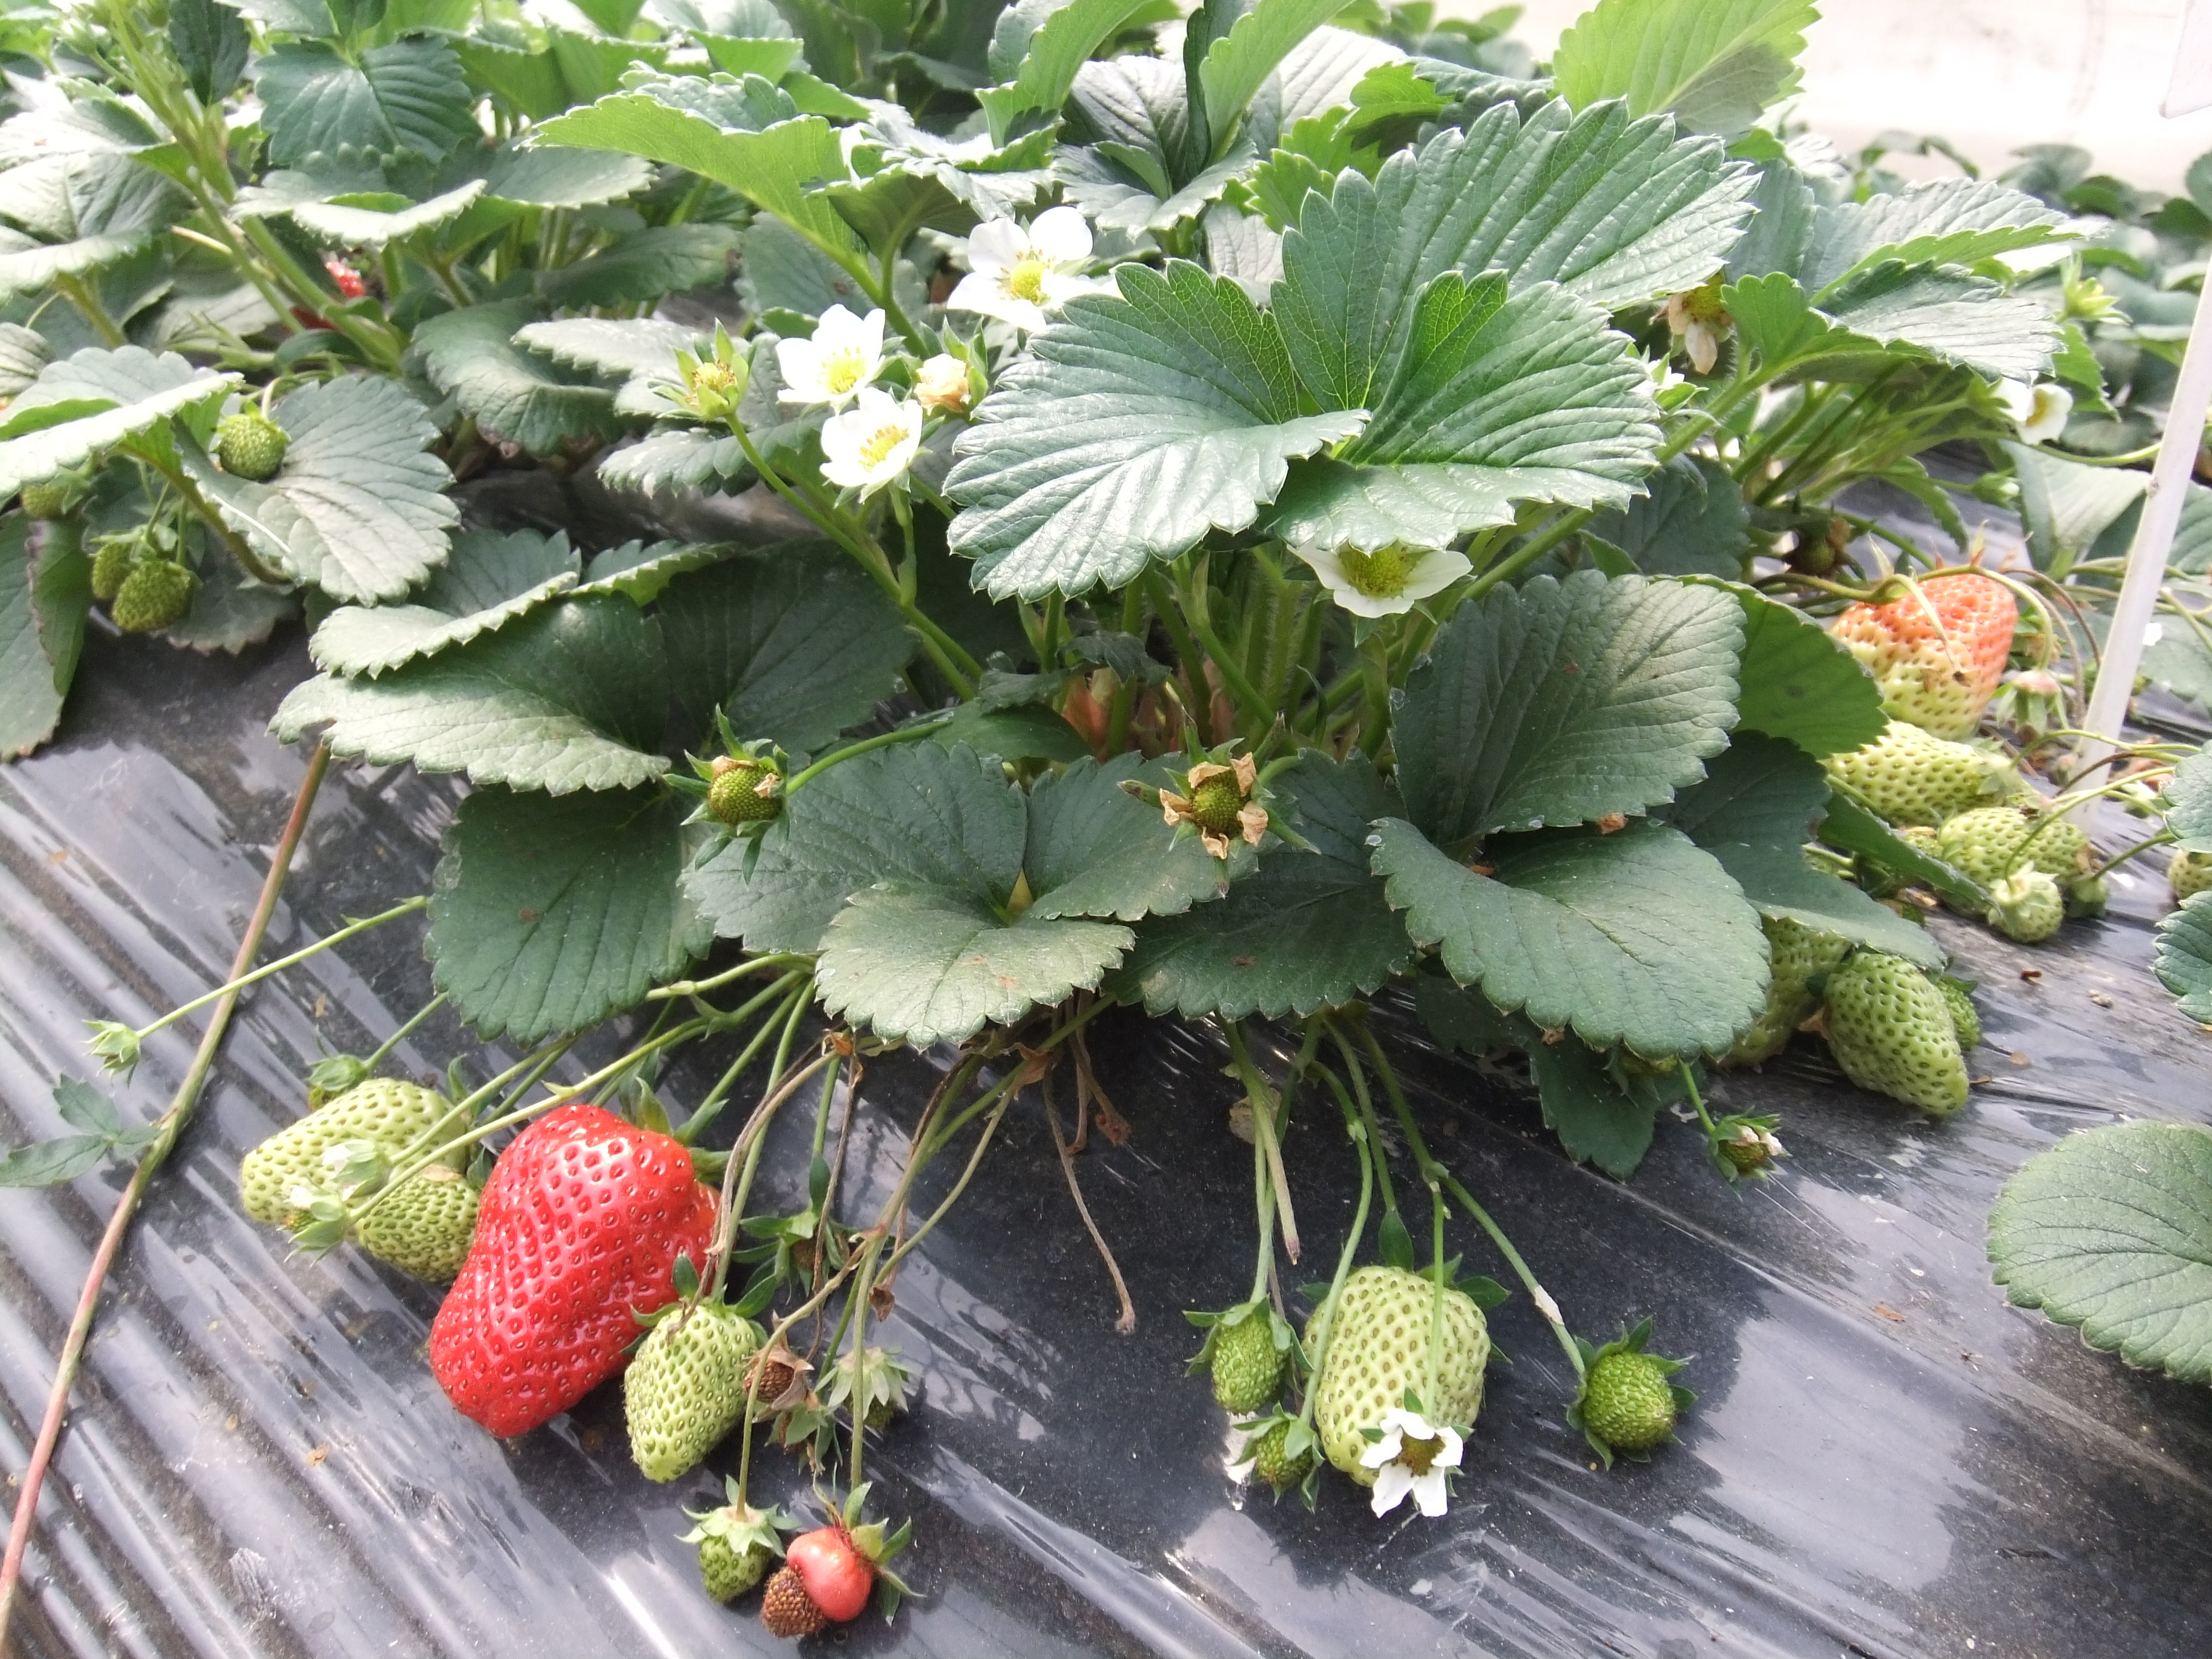StrawberryIrremovable: (230, 1070, 481, 1291), (1299, 1253, 1496, 1480), (1822, 561, 2020, 744), (611, 1295, 768, 1488), (1825, 950, 1977, 1126), (1700, 904, 1853, 1068), (1897, 805, 2099, 922), (754, 1511, 909, 1640), (1817, 748, 2041, 830), (352, 1162, 486, 1290), (1578, 1337, 1684, 1455), (681, 1502, 787, 1612), (1204, 1297, 1298, 1419), (89, 528, 192, 636), (1167, 755, 1258, 849), (1982, 863, 2071, 946), (664, 347, 752, 429), (211, 408, 296, 481), (1244, 1424, 1318, 1499), (707, 753, 777, 828), (2151, 835, 2203, 910)
StrawberryRemovable: (415, 1098, 740, 1445)
StrawberryWedge: (413, 1096, 740, 1441)
